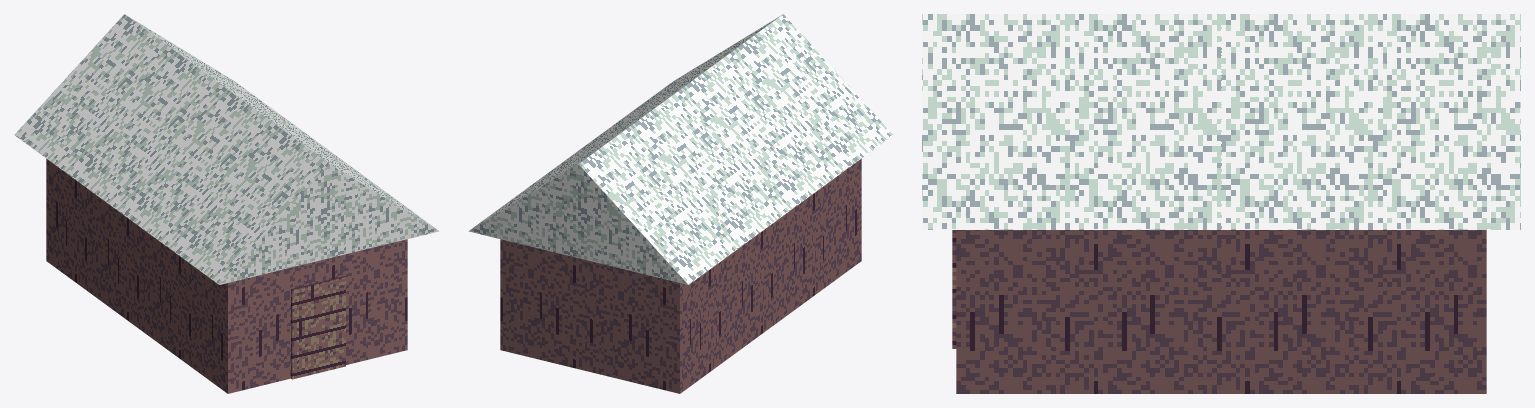
The model's file is pinhal_do_norte_salao_comunal.glb.
3 renders of one model, left to right at view 1: azimuth 30°, elevation 25°; view 2: azimuth 150°, elevation 25°; view 3: azimuth 270°, elevation 25°, orthographic. The views are drawn at different scales.
Parts seen in each view (by area): view 1: pinhal_do_norte_salao_comunal; view 2: pinhal_do_norte_salao_comunal; view 3: pinhal_do_norte_salao_comunal.
Boxes of the visible parts, x1,y1,x2,y2 form: pinhal_do_norte_salao_comunal: (14, 14, 439, 393); pinhal_do_norte_salao_comunal: (468, 14, 893, 393); pinhal_do_norte_salao_comunal: (922, 14, 1520, 393).
Size of the model in its own units: 4.9 by 4.6 by 7.9.
3 materials, 3 textured.
